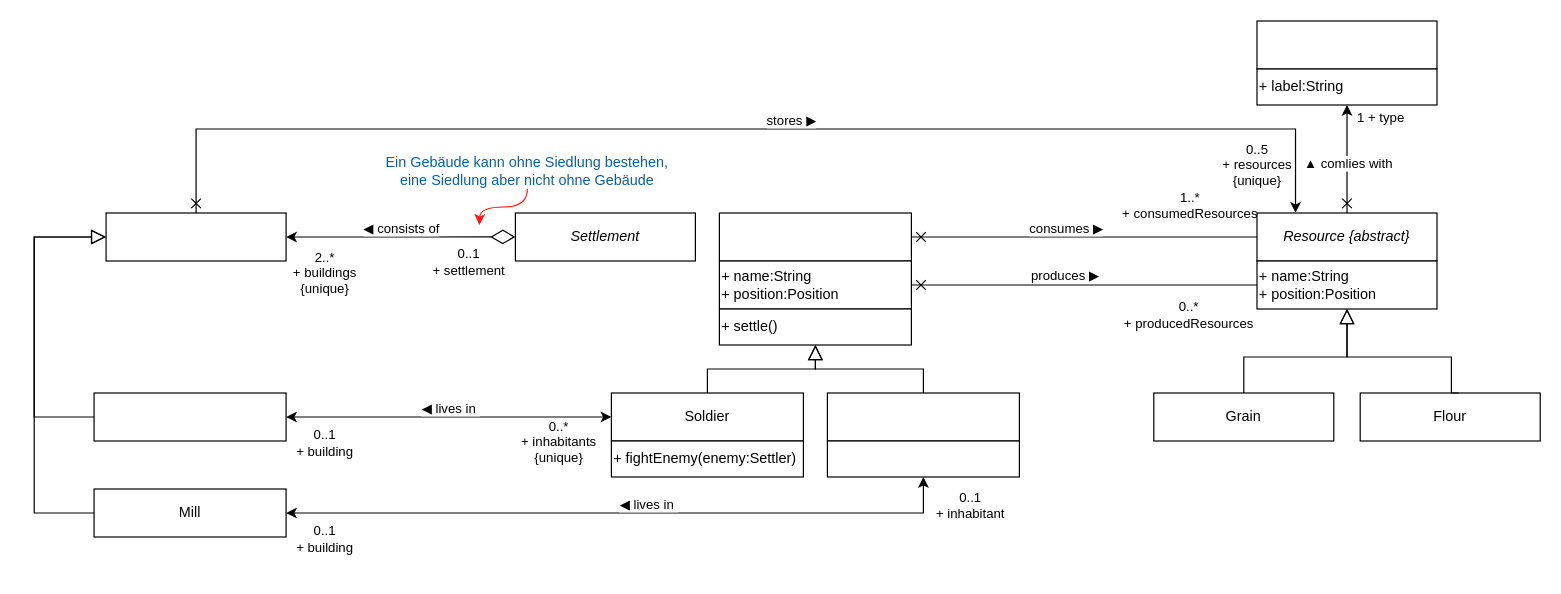
This 1561x594 diagram has some shape labels left out. Here are the shapes that lost their labels. From the top down, the centre of each, then its label:
the point at 1346,44: ResourceType
the point at 195,236: Building {abstract}
the point at 814,236: Settler {abstract}
the point at 189,416: Barracks
the point at 922,416: Miller
the point at 922,458: + grind(grain:Grain):Flour
